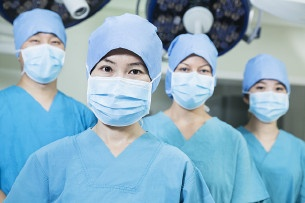Mask: (86, 53, 159, 127)
